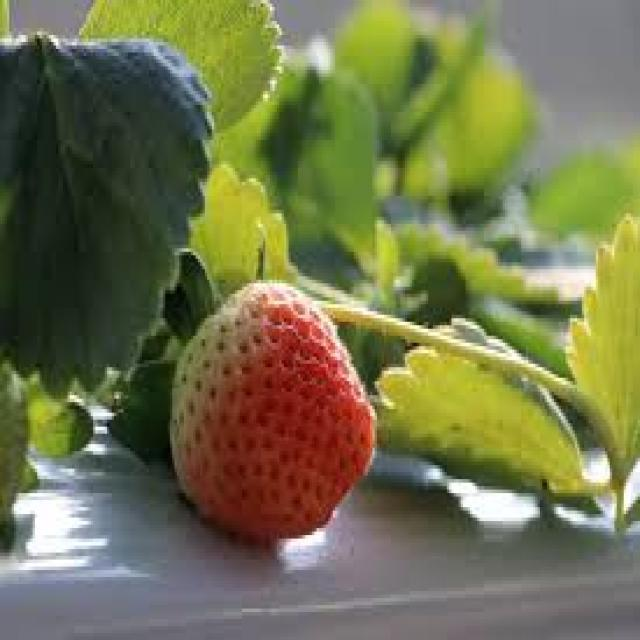strawberry: (168, 280, 376, 540)
